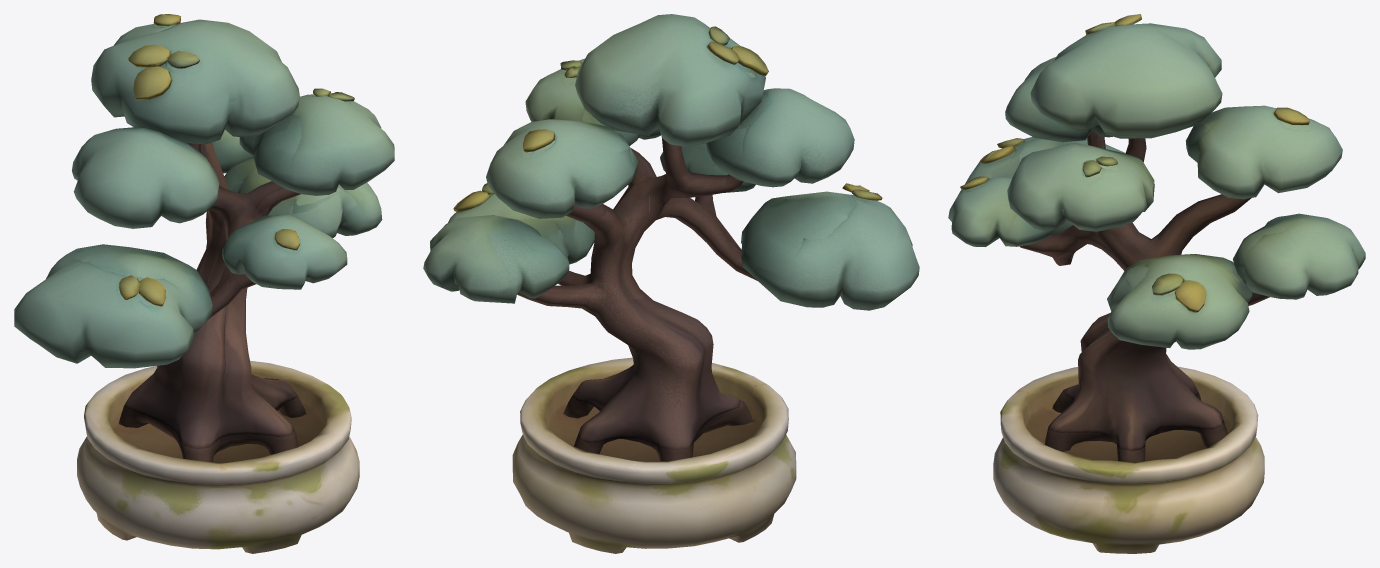
File: tripo_convert_6ad26a5c-b256-4728-a0bc-9ec2a693ba09.fbx
The picture shows the model from 3 angles, left to right: view 1: azimuth 30°, elevation 25°; view 2: azimuth 150°, elevation 25°; view 3: azimuth 270°, elevation 25°; orthographic projection. The views are drawn at different scales.
Visible parts, largest first — view 1: tripo_node_6ad26a5c; view 2: tripo_node_6ad26a5c; view 3: tripo_node_6ad26a5c.
Part boxes in pixels (x1=…): tripo_node_6ad26a5c: x1=14, y1=14, x2=394, y2=553; tripo_node_6ad26a5c: x1=423, y1=14, x2=919, y2=553; tripo_node_6ad26a5c: x1=948, y1=14, x2=1365, y2=553.
Size of the model in its own units: 0.8539 by 0.998 by 0.8117.
1 material, 1 textured.
